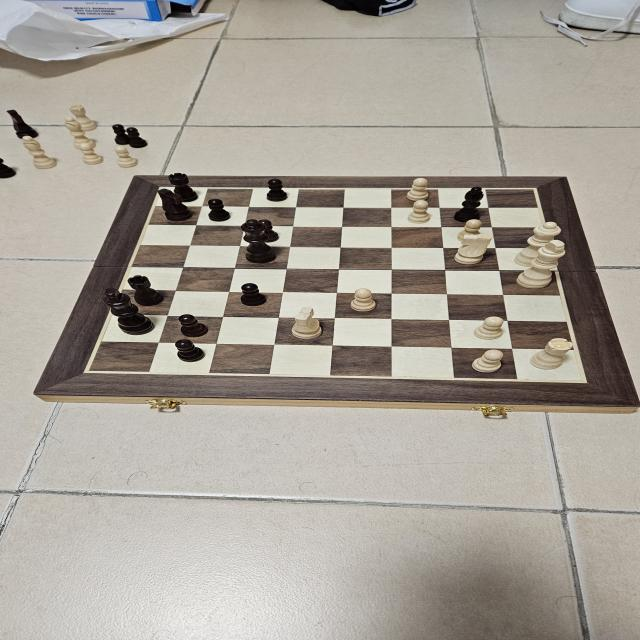chess-table-corners: (572, 376, 592, 386), (79, 367, 102, 375), (526, 186, 544, 192), (152, 184, 166, 189)
